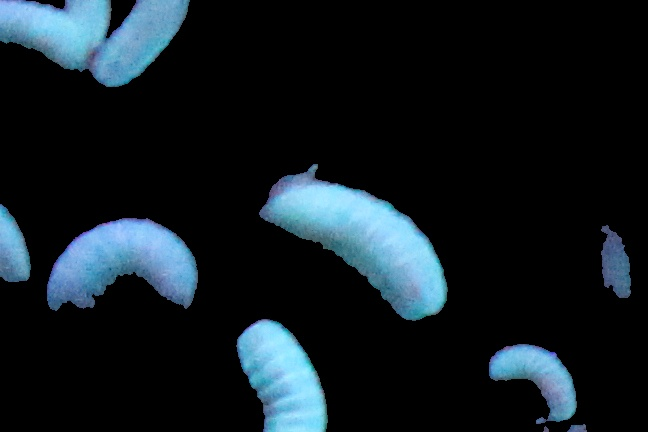larvae: (259, 183, 449, 322), (48, 212, 202, 323), (228, 319, 331, 432), (90, 1, 189, 87), (486, 343, 577, 421), (1, 1, 91, 71)
